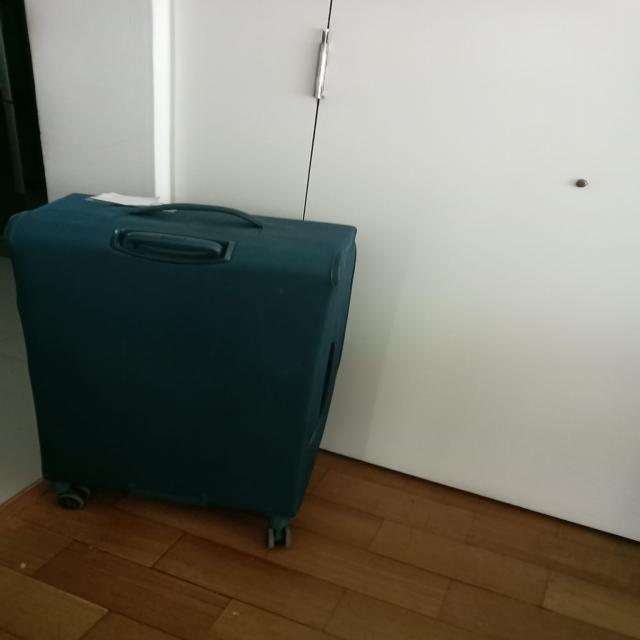Suitcase: (5, 188, 363, 553)
